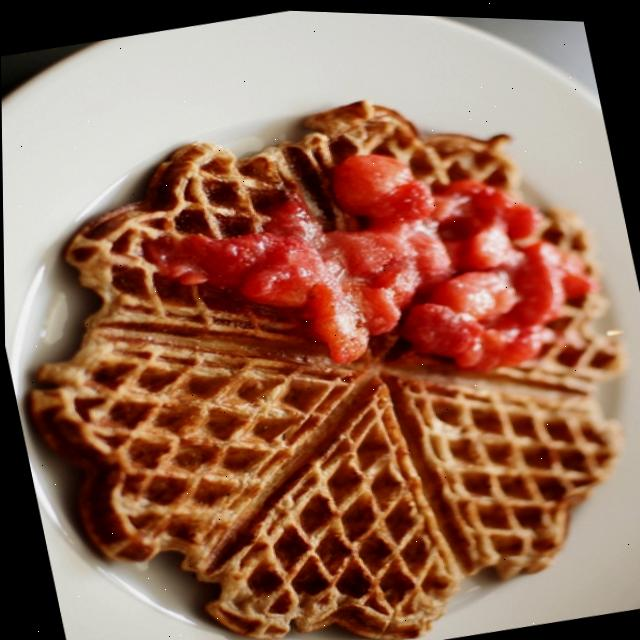炸货点心: (0, 41, 640, 640)
蛋糕甜品: (0, 41, 640, 640)
